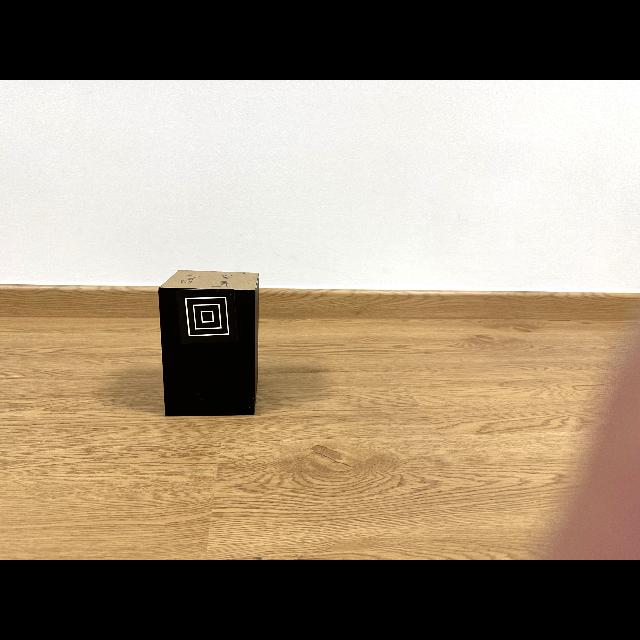BULLSEYE: (175, 289, 238, 345)
